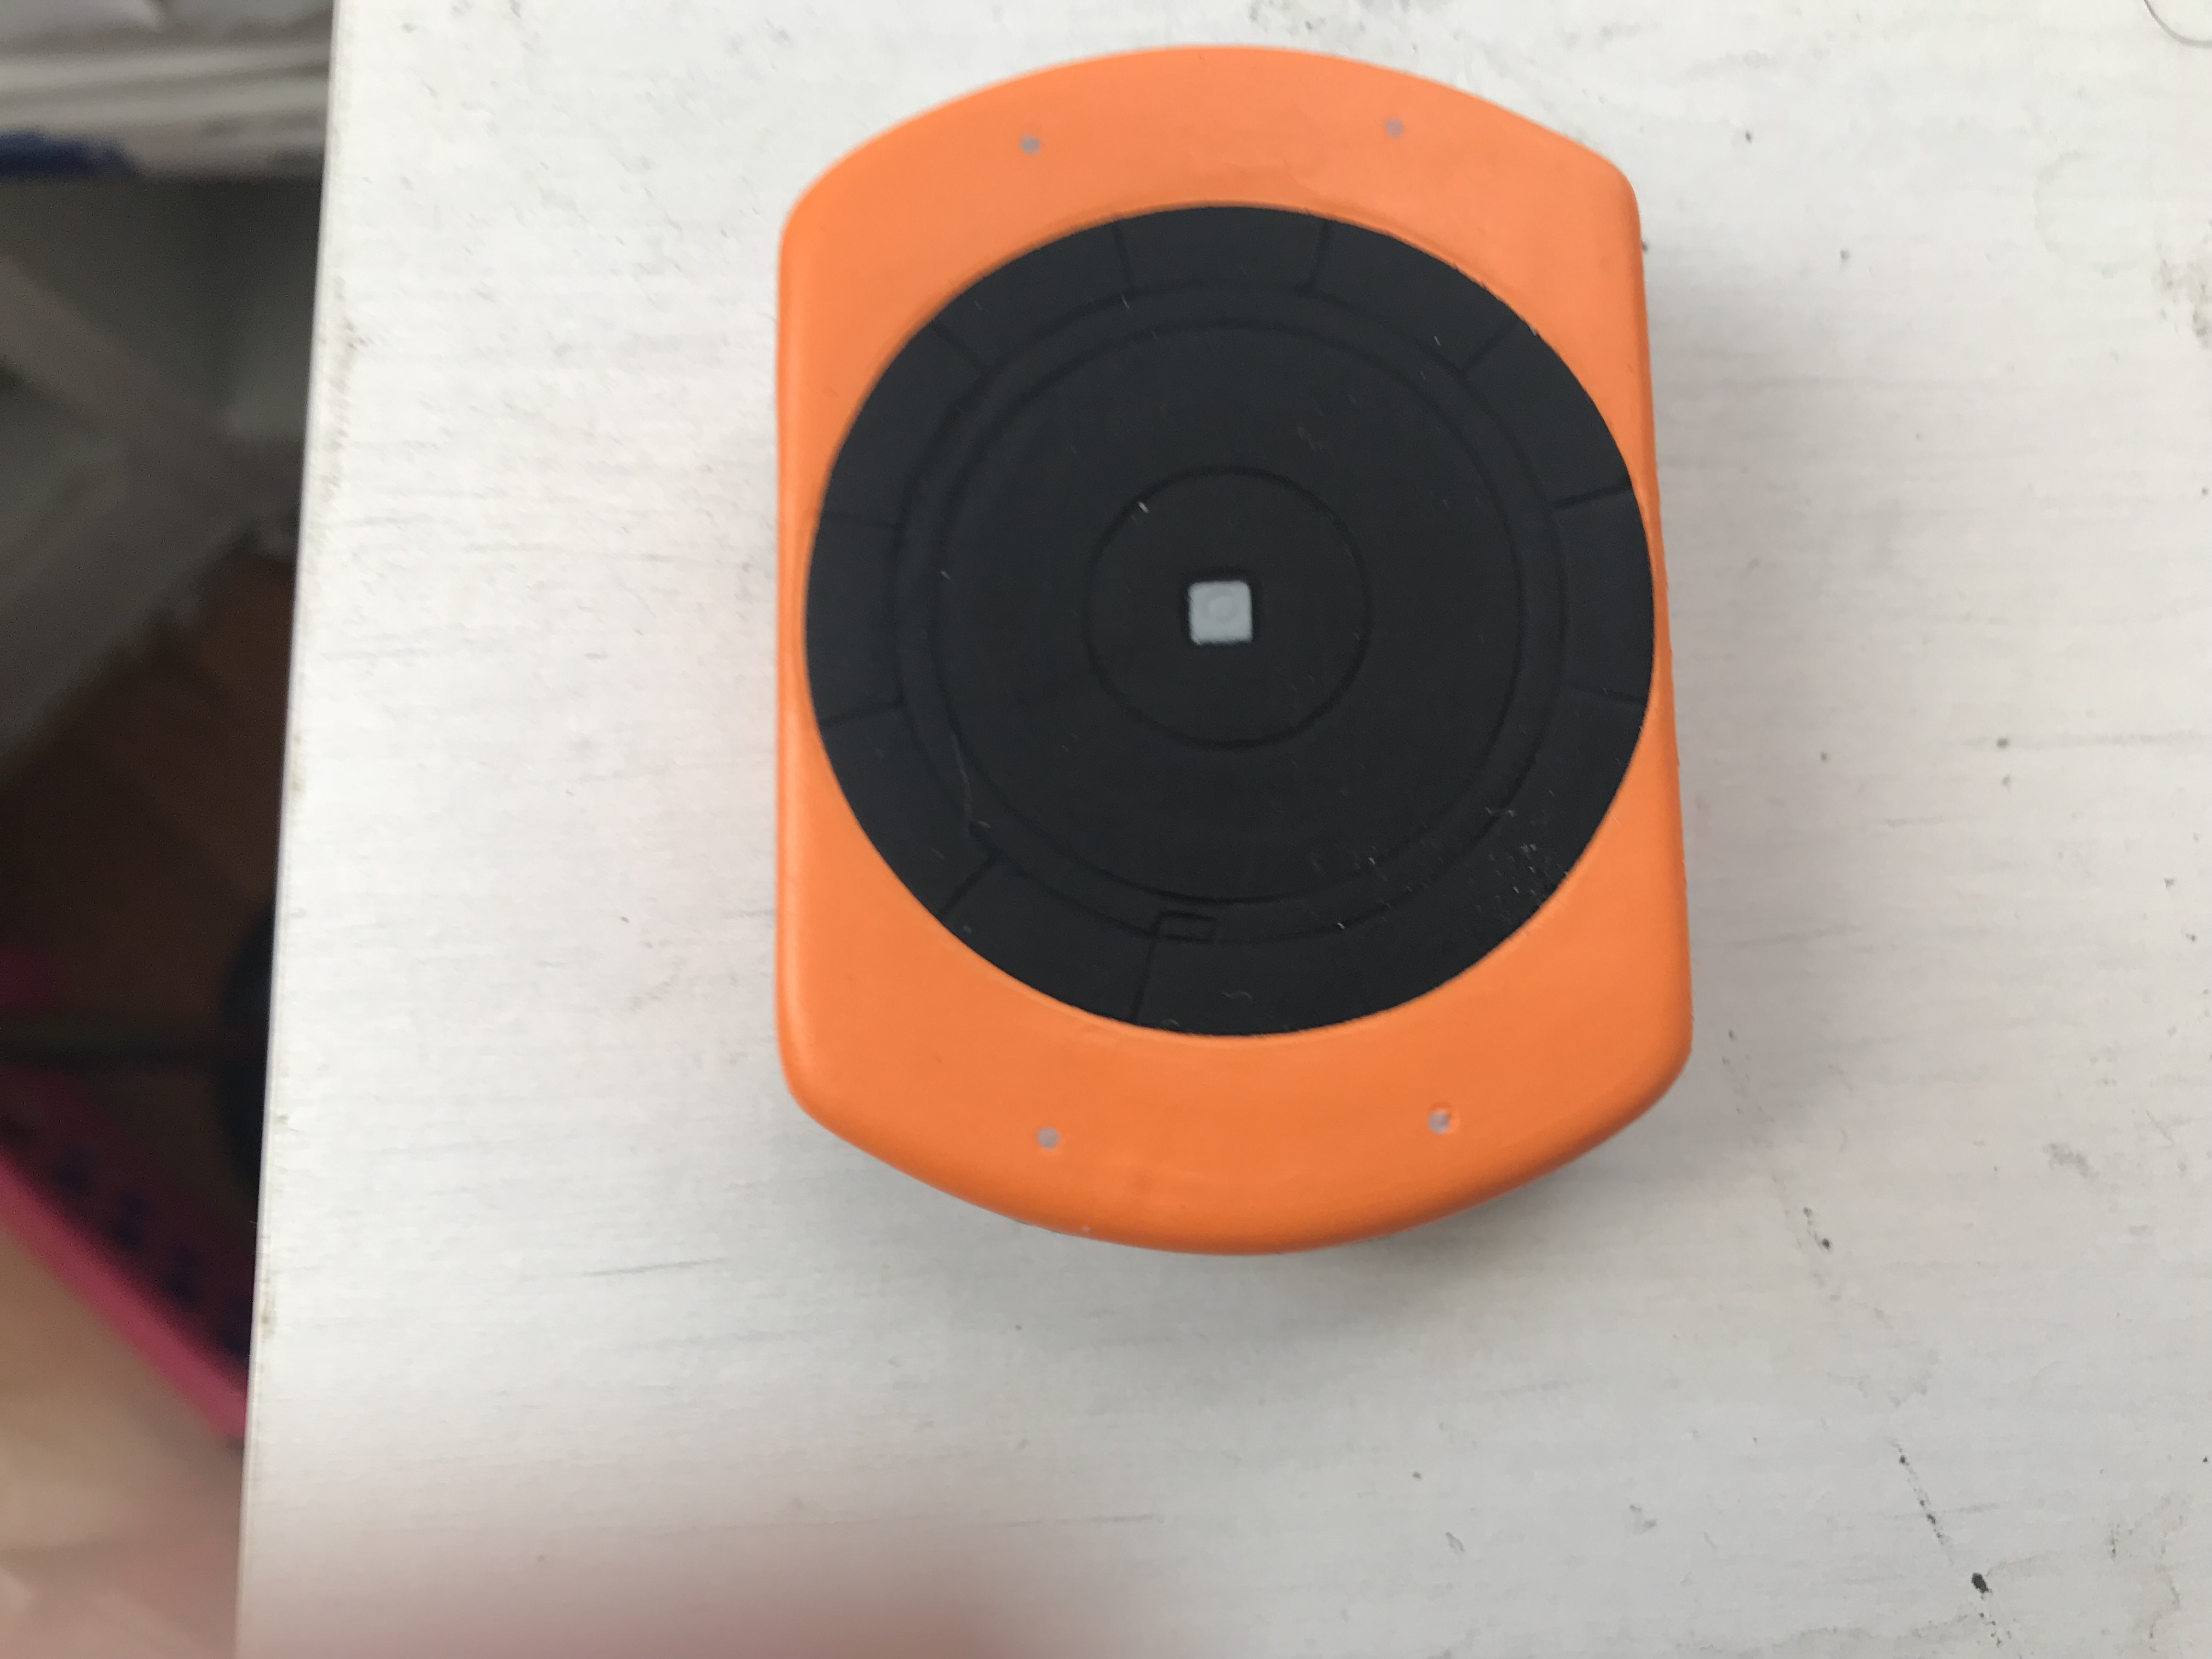amazon_bot: (725, 24, 1789, 1288)
